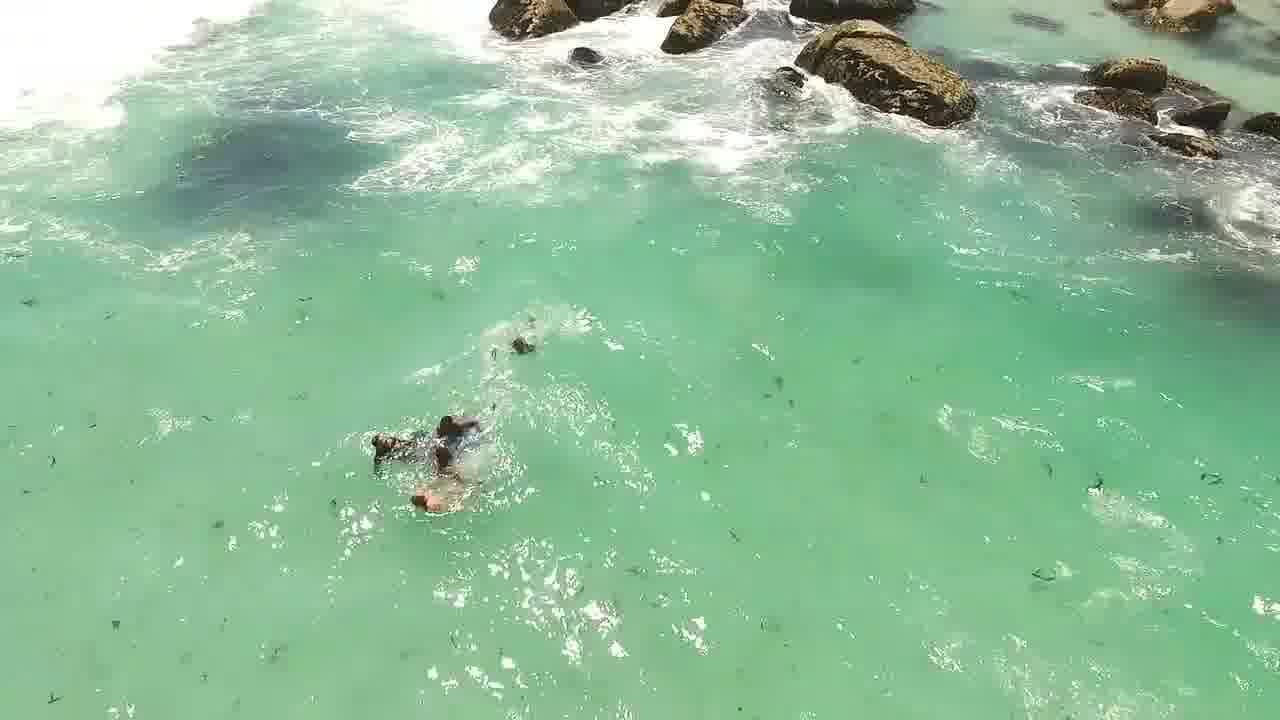human: (424, 403, 493, 445), (400, 487, 466, 527), (359, 422, 412, 470), (425, 438, 471, 481)
